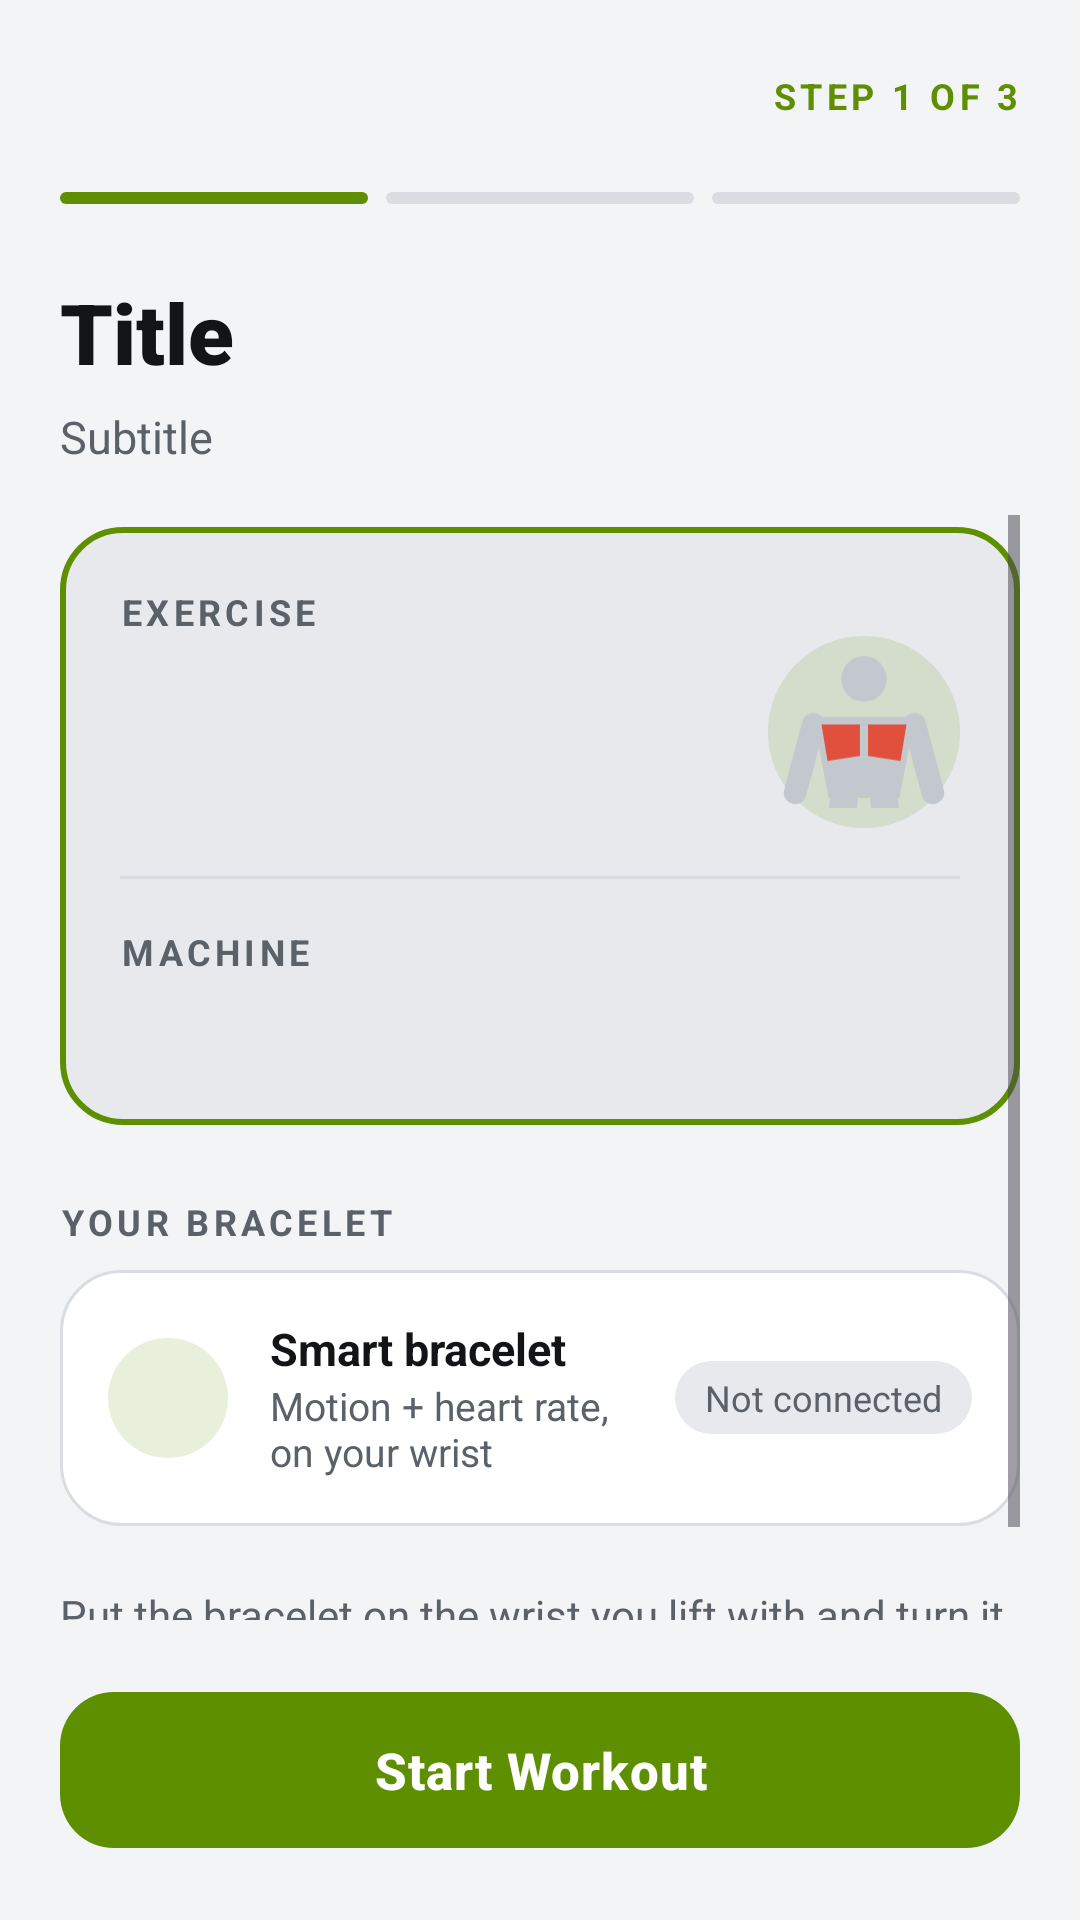

Point at icon controls on the screen. Image size 1080 × 1920, points as [x,y].
muscle chest: [864,732]
